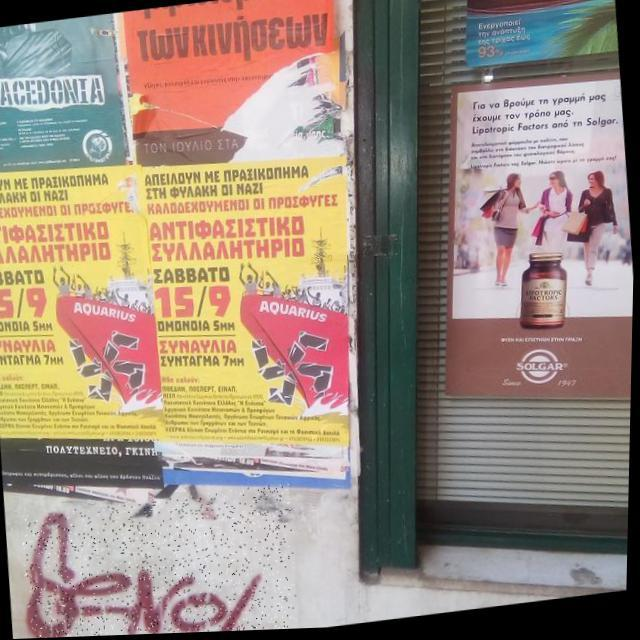-: (20, 484, 304, 639)
